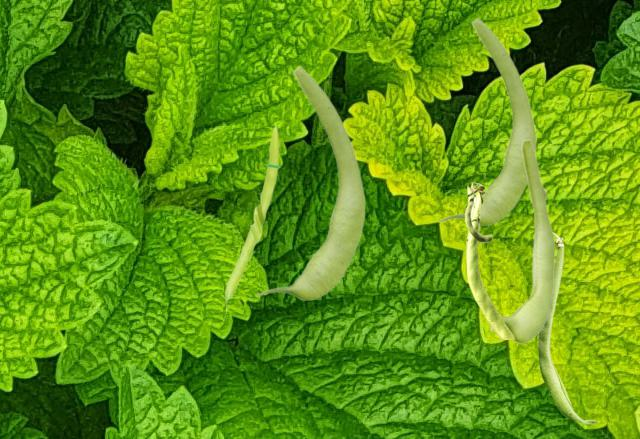french_bean: (254, 64, 365, 299), (437, 16, 536, 224), (489, 138, 554, 342), (222, 122, 280, 321), (538, 232, 597, 423), (464, 182, 514, 338)
